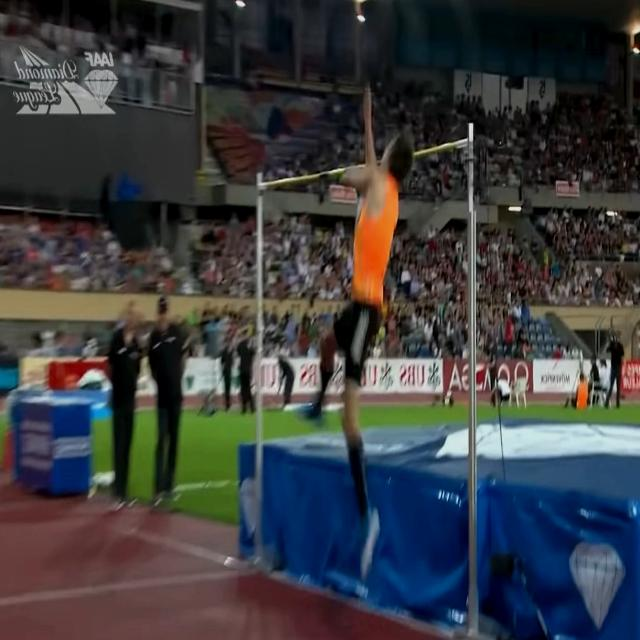jump: (298, 82, 412, 577)
